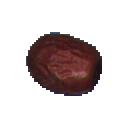gd: (21, 26, 108, 116)
